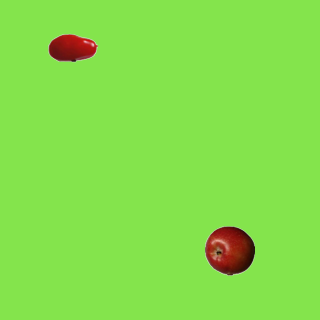Apple Braeburn: (204, 225, 254, 275)
Tomato 2: (47, 22, 97, 72)
